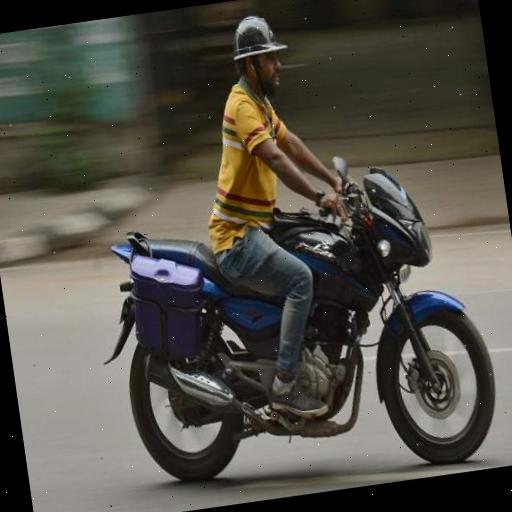helmet: (183, 0, 374, 476)
